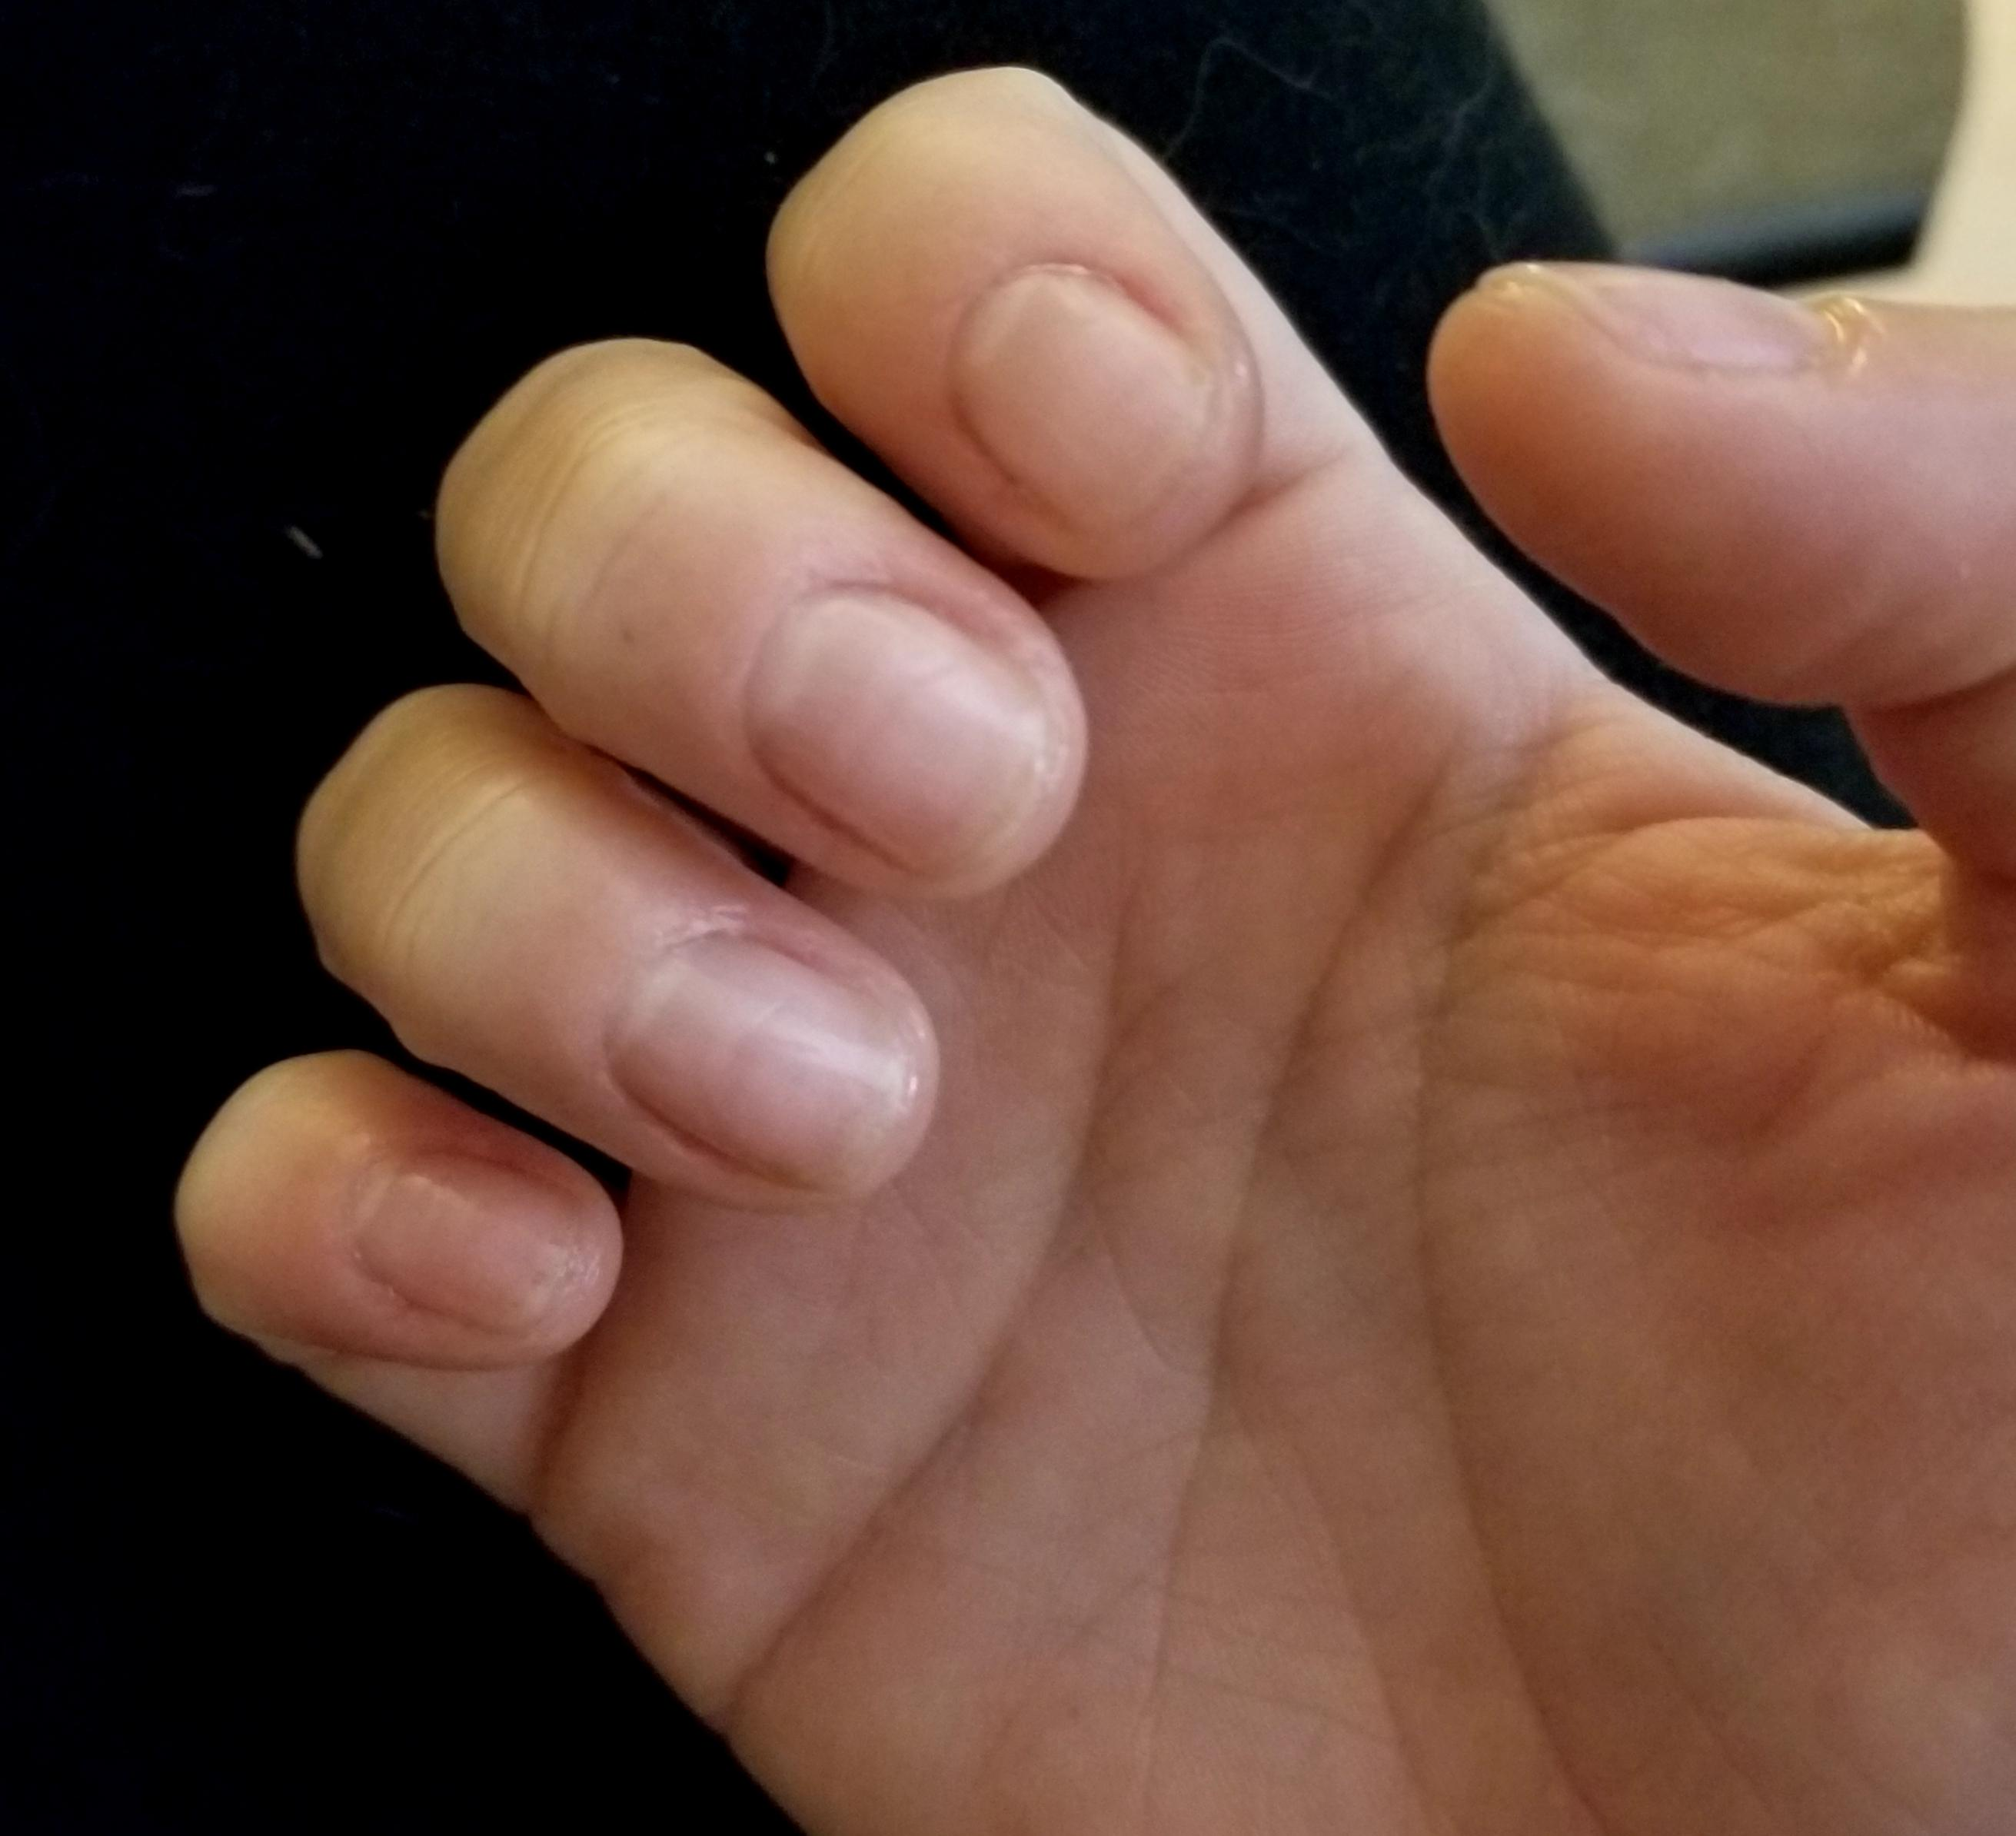nails: (732, 569, 1064, 895), (597, 913, 938, 1213), (938, 235, 1220, 537), (1452, 242, 1863, 393), (346, 1136, 609, 1348)
